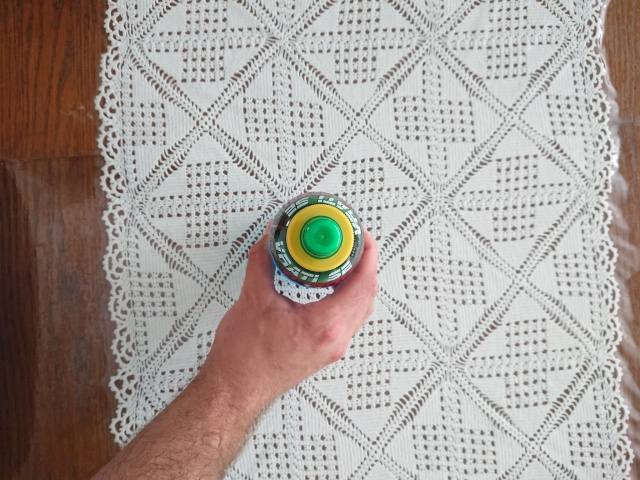Vindi Iso Sport Forest Strawberries 500mL: (265, 189, 366, 289)
